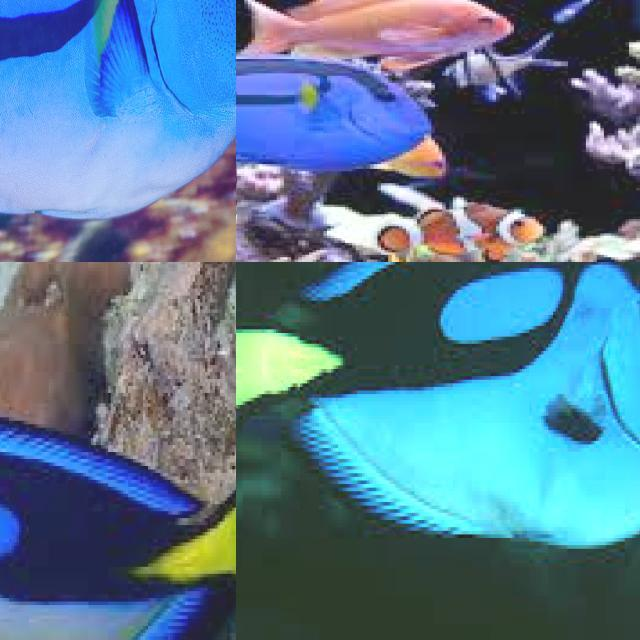BlueTang: (248, 262, 640, 546), (0, 0, 236, 226), (0, 420, 236, 640), (236, 63, 426, 184)
ClownFish: (378, 195, 543, 262)
GoldFish: (241, 1, 514, 73)
